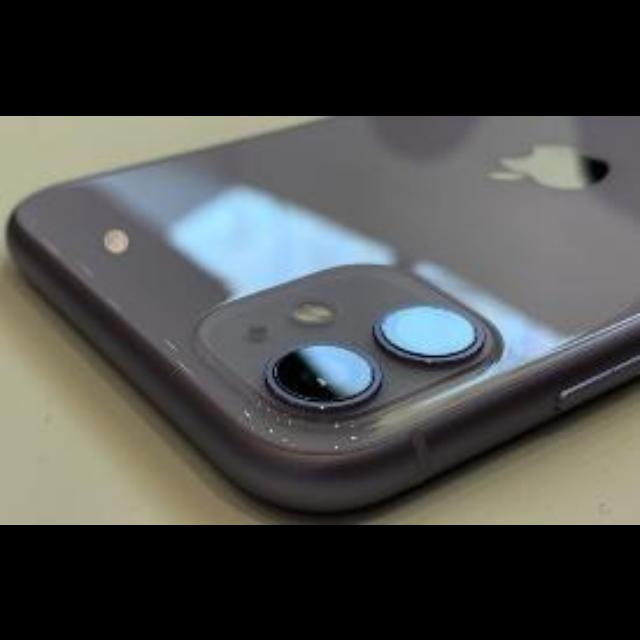Phone: (6, 115, 640, 515)
